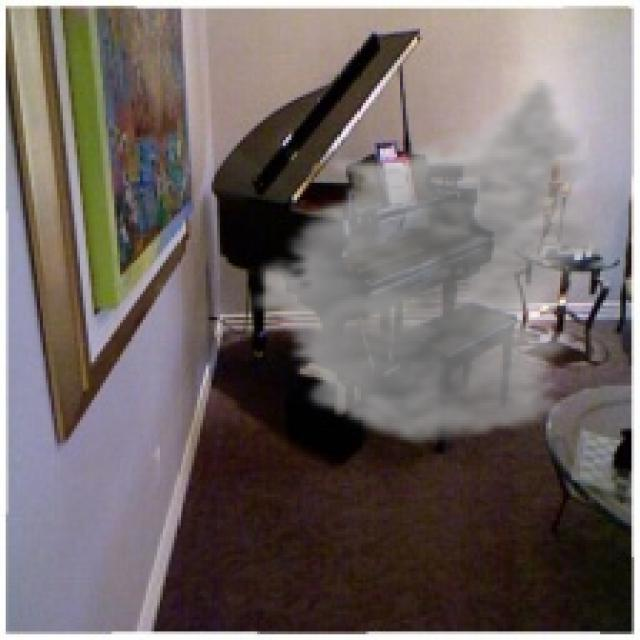smoke: (243, 74, 623, 449)
